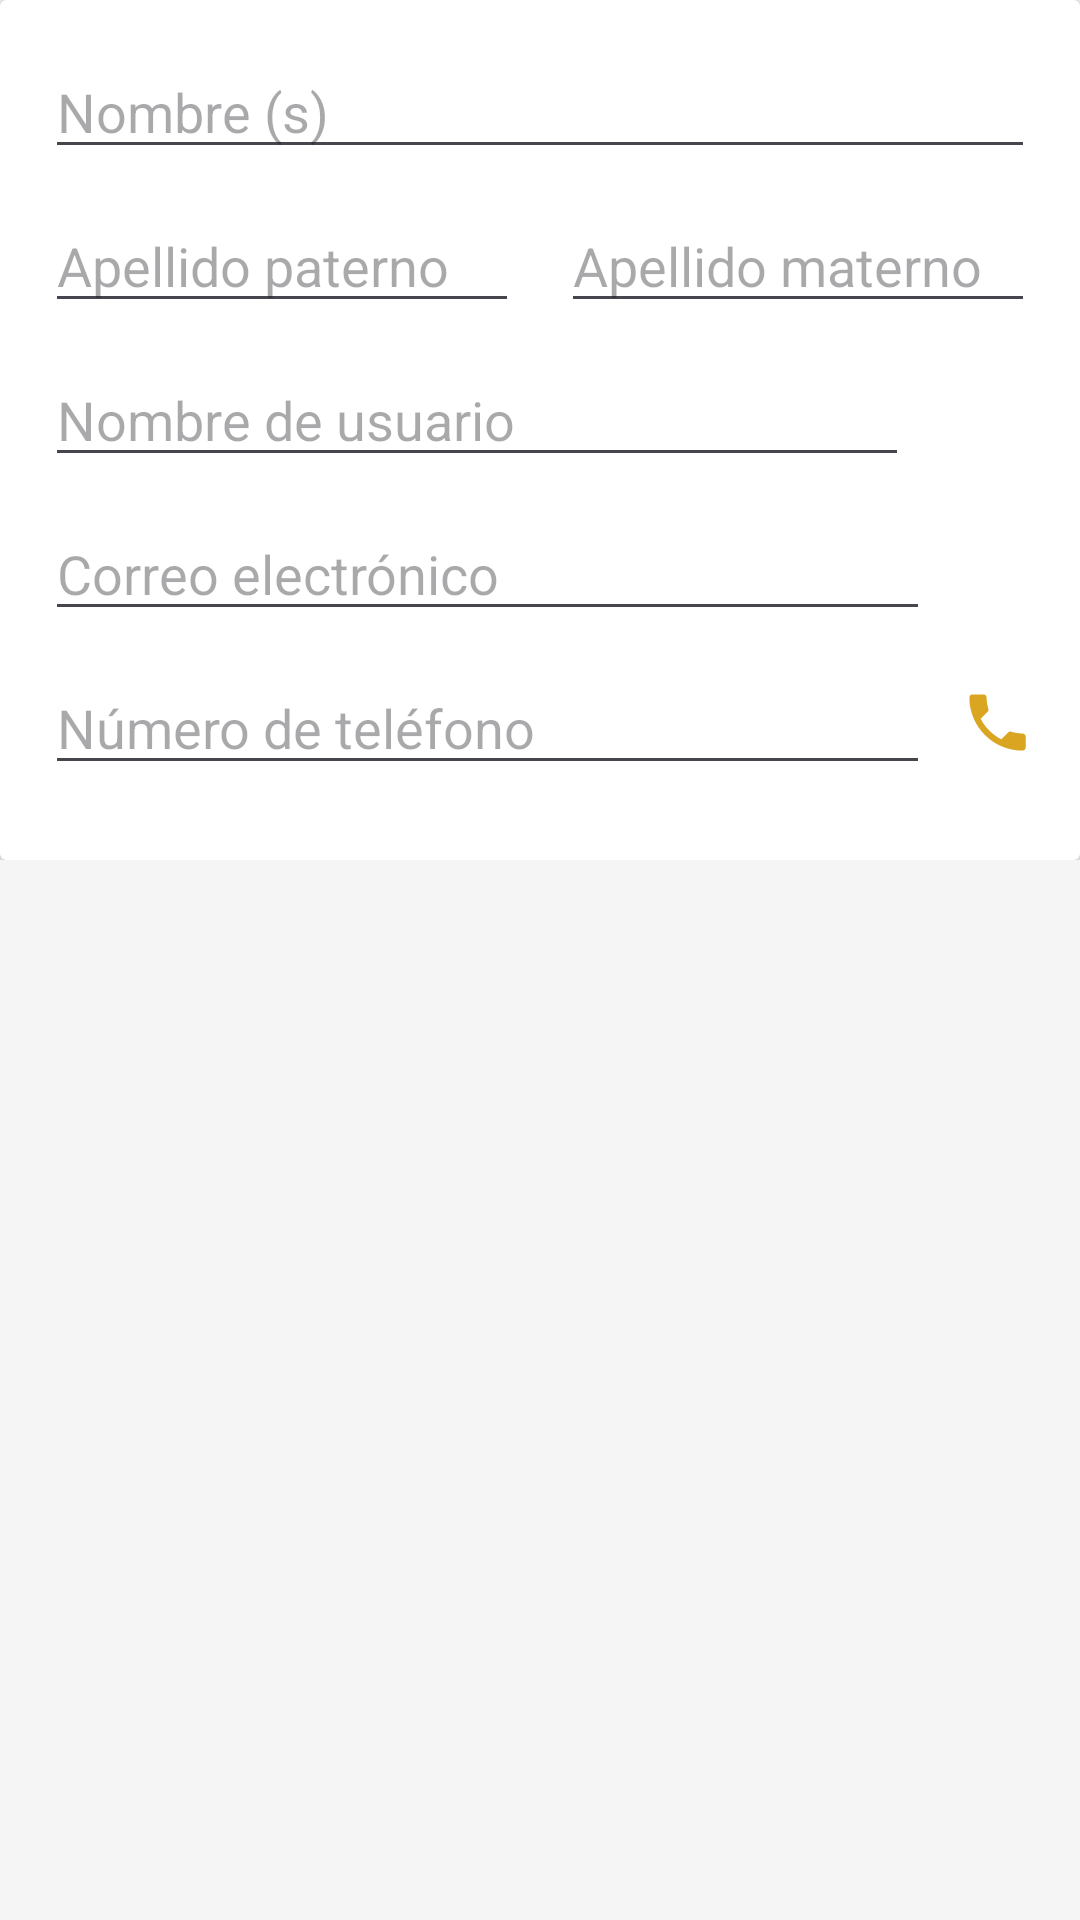

Where icons sit on this 1080 x 1920 app screen, as (x1, y1, x2, y2):
phone: (969, 694, 1026, 751)
